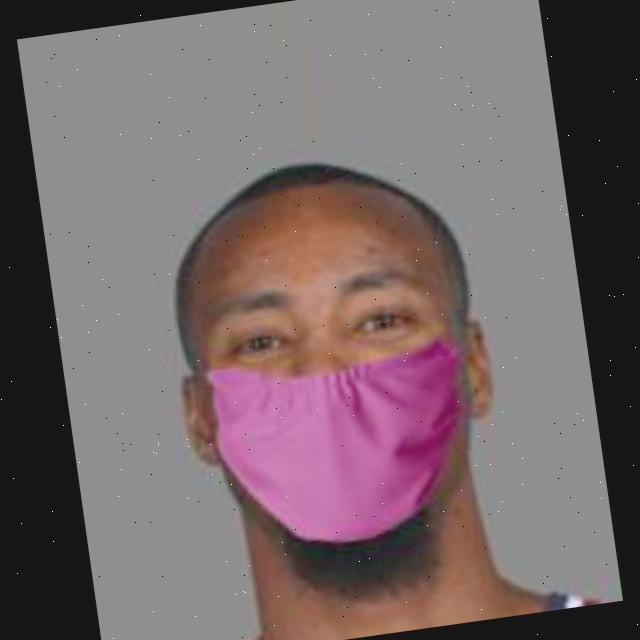suspicion: (75, 155, 526, 569)
